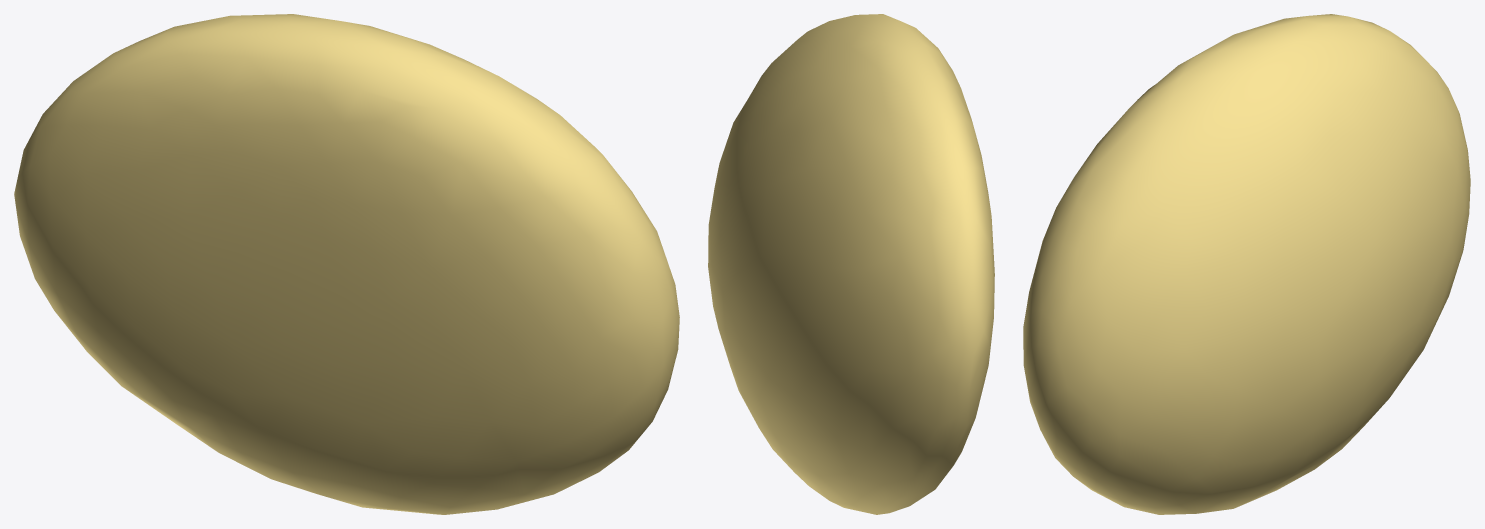
Rendered from fma73503_mm3561m.glb.
The picture shows the model from 3 angles, left to right: view 1: azimuth 30°, elevation 25°; view 2: azimuth 150°, elevation 25°; view 3: azimuth 270°, elevation 25°; orthographic projection. The views are drawn at different scales.
Parts seen in each view (by area): view 1: FMA73503_MM3561M; view 2: FMA73503_MM3561M; view 3: FMA73503_MM3561M.
Boxes of the visible parts, box(x1,y1,x2,y2) form: FMA73503_MM3561M: box(14, 14, 679, 514); FMA73503_MM3561M: box(708, 14, 994, 514); FMA73503_MM3561M: box(1023, 14, 1470, 514).
Bounding box in the file's own units: 0.00189 × 0.00196 × 0.00185.
